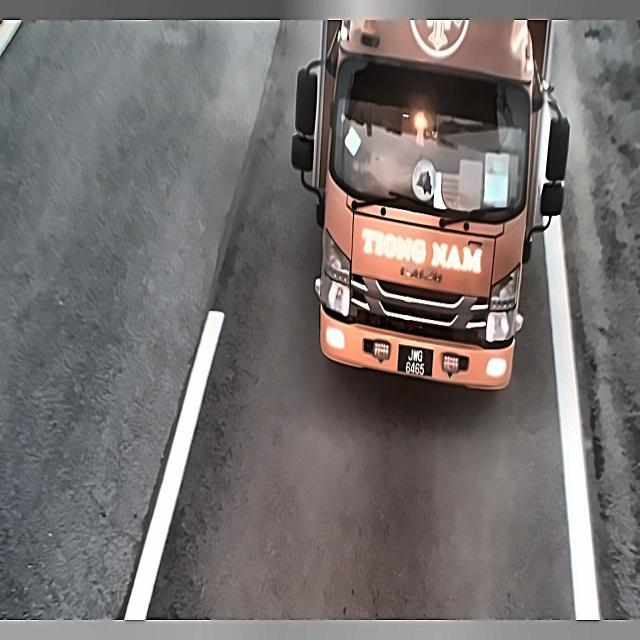car: (398, 343, 432, 382)
